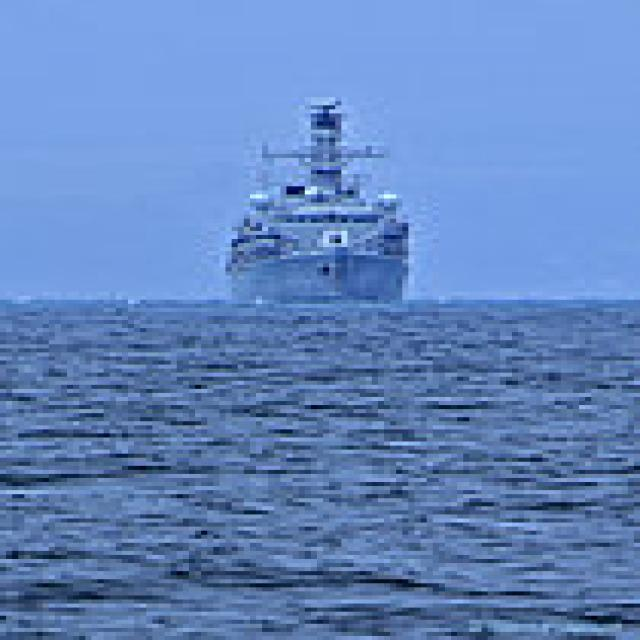Warship: (213, 89, 414, 304)
